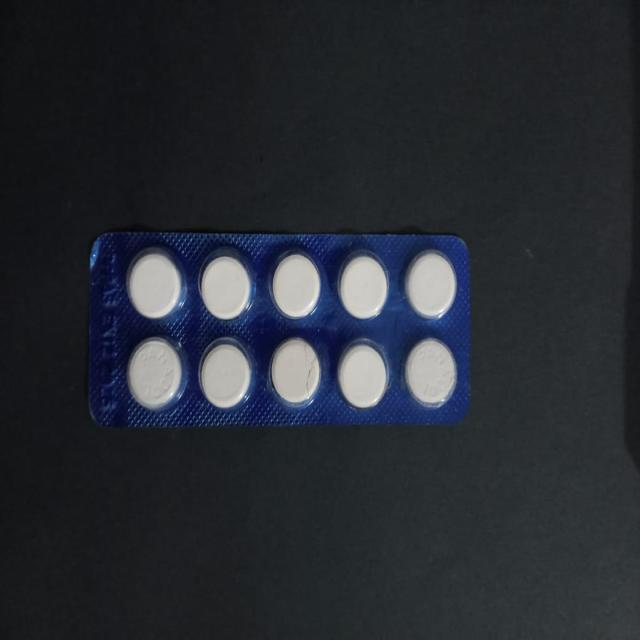defect: (270, 336, 323, 406)
